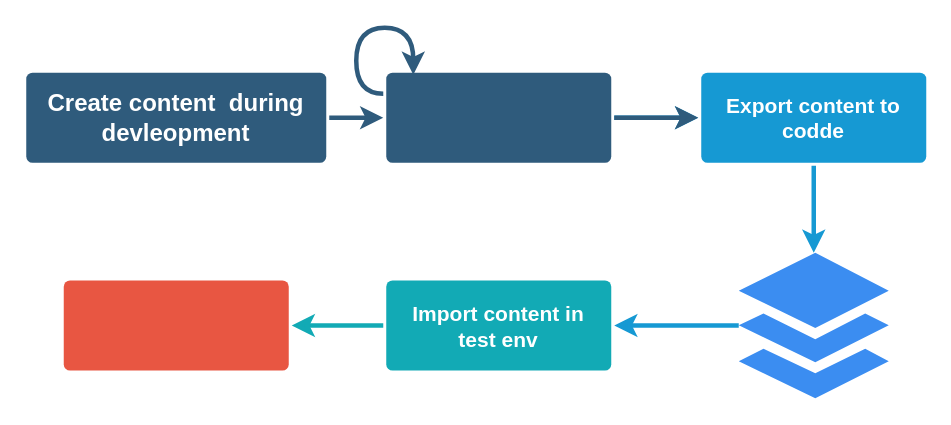
The diagram is 951 pixels wide and 425 high, and some of its shapes have lost their labels. The centre of each missing label's shape, as x and y in pixels:
Refine content: (x=498, y=117)
Run tests!: (x=175, y=325)
